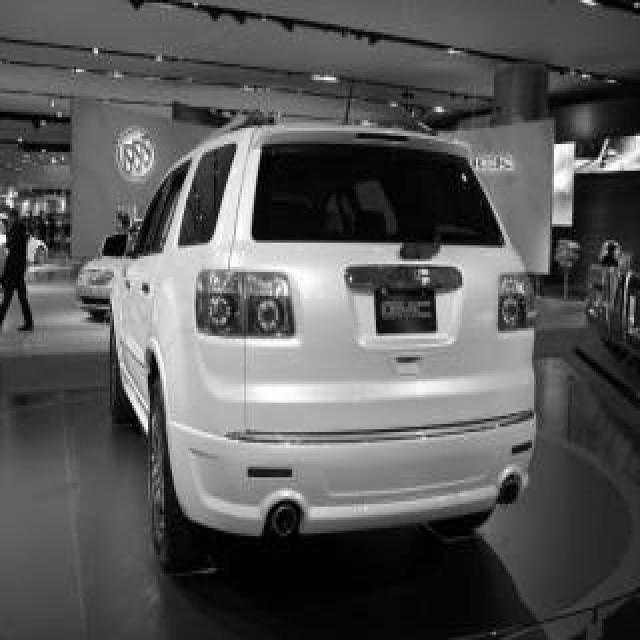Car: (110, 127, 535, 569)
